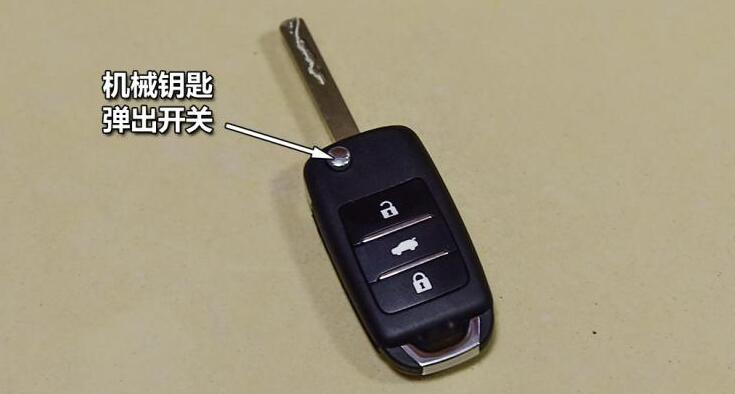key: (249, 14, 501, 381)
